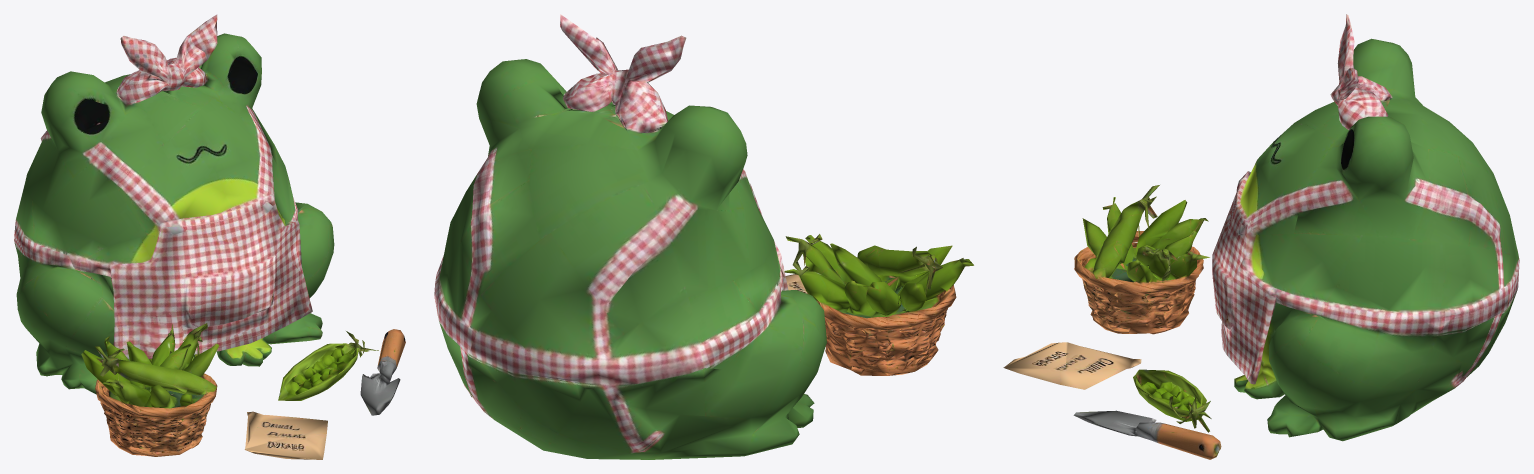
Rendered from maraichere.glb.
3 renders of one model, left to right at view 1: azimuth 30°, elevation 25°; view 2: azimuth 150°, elevation 25°; view 3: azimuth 270°, elevation 25°, orthographic. The views are drawn at different scales.
Parts seen in each view (by area): view 1: mesh_node; view 2: mesh_node; view 3: mesh_node.
Part boxes in pixels (x1=…): mesh_node: x1=14, y1=14, x2=405, y2=459; mesh_node: x1=434, y1=14, x2=973, y2=459; mesh_node: x1=1003, y1=14, x2=1519, y2=459.
Size of the model in its own units: 1.56 by 1.36 by 1.9.
1 material, 1 textured.
